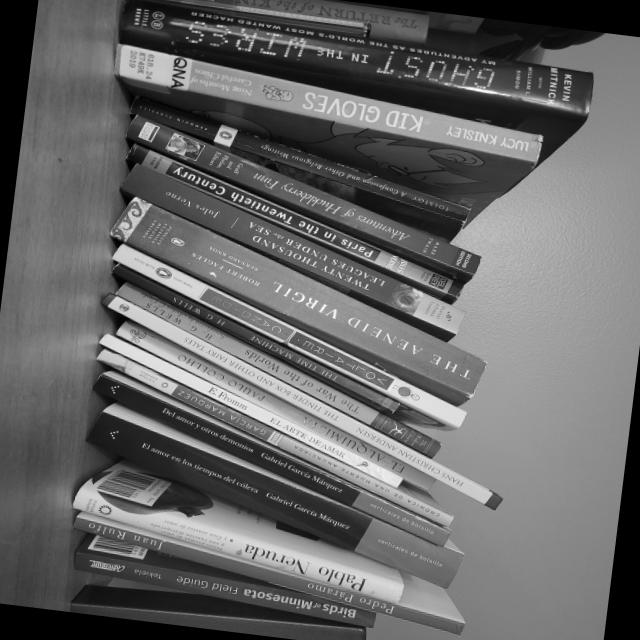book: (99, 289, 503, 511), (95, 41, 543, 233), (105, 191, 487, 410), (108, 0, 595, 168), (83, 398, 465, 593), (110, 235, 466, 441), (93, 345, 455, 529), (91, 366, 452, 550), (116, 159, 465, 344), (121, 109, 481, 287), (69, 446, 409, 633), (114, 279, 441, 460), (114, 316, 435, 497), (132, 144, 462, 306), (121, 93, 470, 245), (65, 510, 471, 636), (96, 330, 403, 490), (108, 260, 399, 418), (71, 531, 378, 638), (233, 0, 428, 45)
